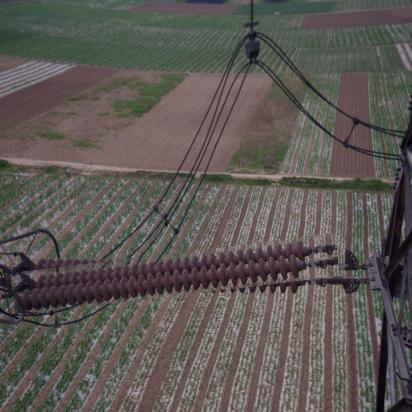insulator: (12, 244, 340, 307)
